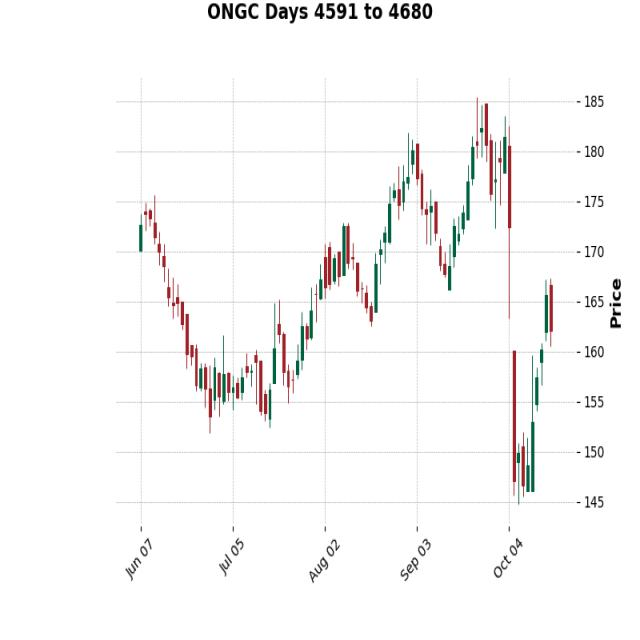Head and Shoulder: (389, 87, 543, 304)
